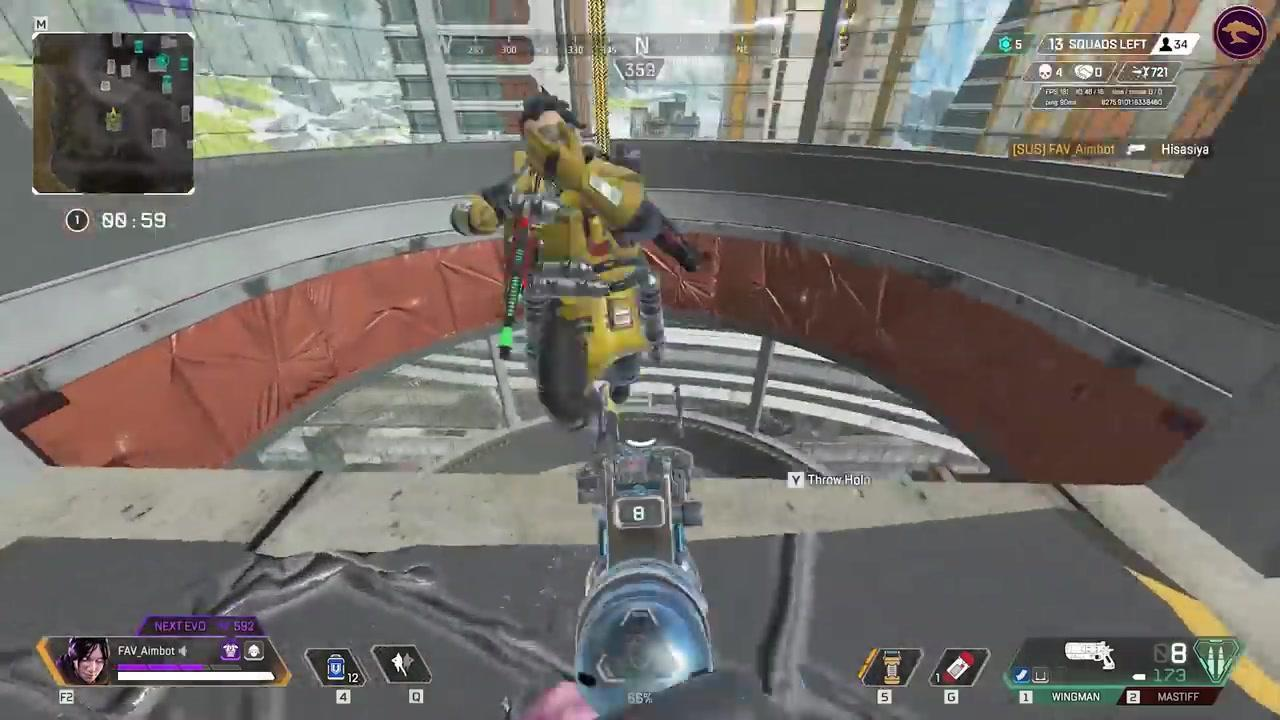avatar: (450, 95, 702, 435)
